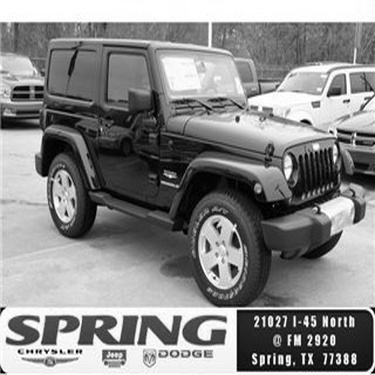car: (27, 24, 371, 311), (244, 60, 369, 139), (1, 48, 56, 130), (326, 93, 375, 180), (213, 50, 264, 102)
